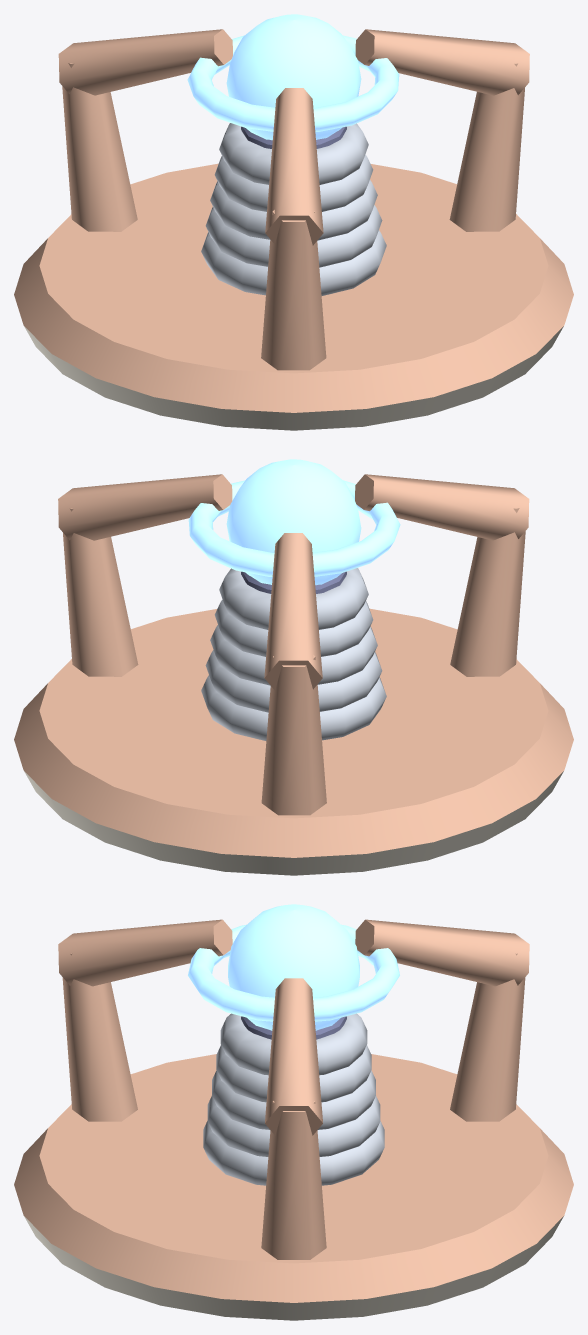
Rendered from R4D_EMPTrap.fbx.
3 renders of one model, top to bottom at view 1: azimuth 30°, elevation 25°; view 2: azimuth 150°, elevation 25°; view 3: azimuth 270°, elevation 25°, orthographic.
Visible parts, largest first — view 1: R4D_EMPTrap_Body, R4D_EMPTrap_Core; view 2: R4D_EMPTrap_Body, R4D_EMPTrap_Core; view 3: R4D_EMPTrap_Body, R4D_EMPTrap_Core.
Boxes of the visible parts, box(x1,y1,x2,y2) form: R4D_EMPTrap_Body: box(14, 29, 573, 430); R4D_EMPTrap_Core: box(187, 14, 399, 140); R4D_EMPTrap_Body: box(14, 474, 573, 875); R4D_EMPTrap_Core: box(188, 459, 400, 585); R4D_EMPTrap_Body: box(14, 919, 573, 1320); R4D_EMPTrap_Core: box(188, 904, 399, 1030).
Size of the model in its own units: 0.44 by 0.2581 by 0.44.
